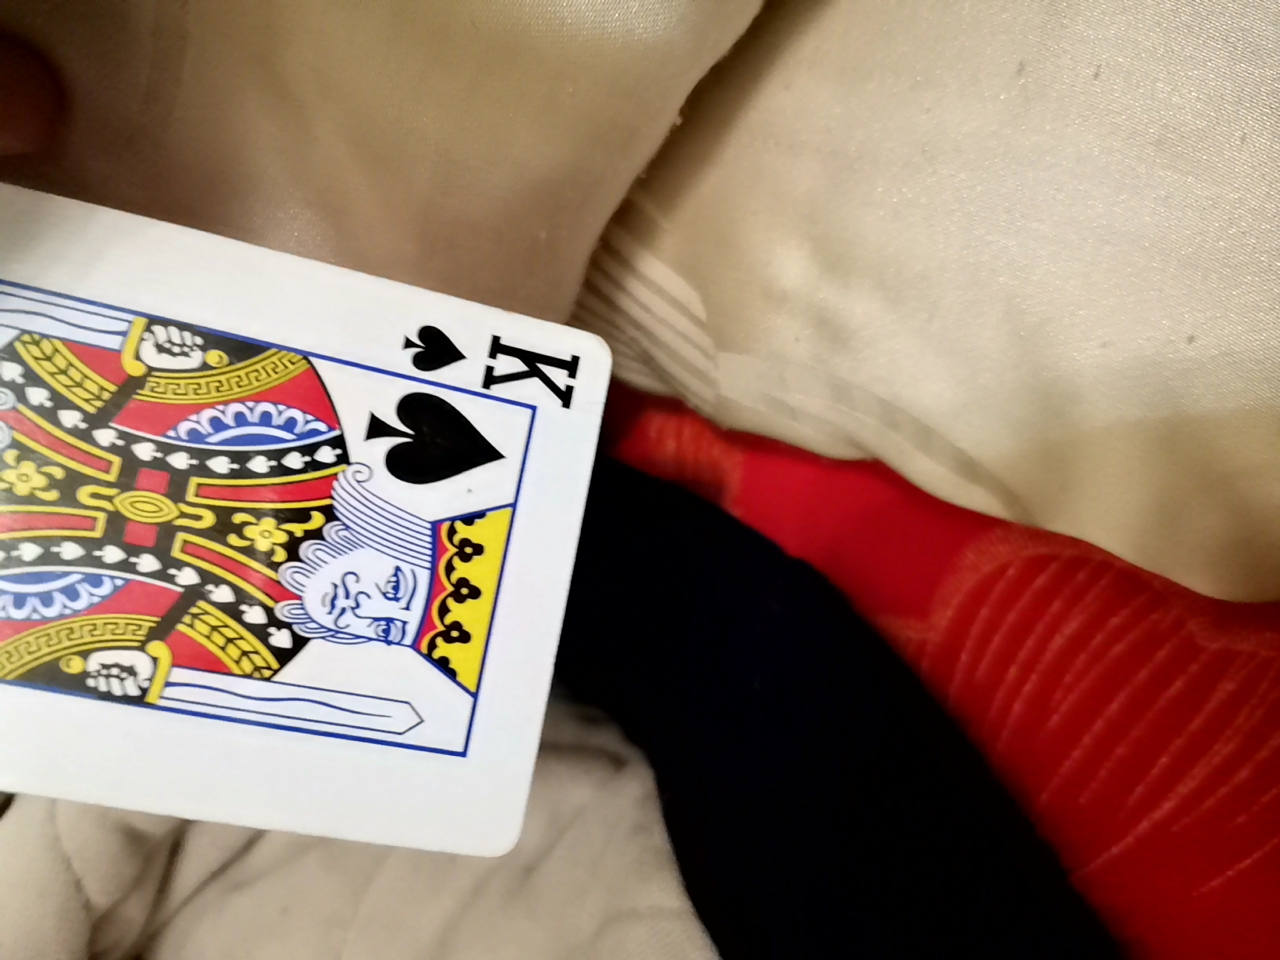ht k: (10, 186, 612, 855)
